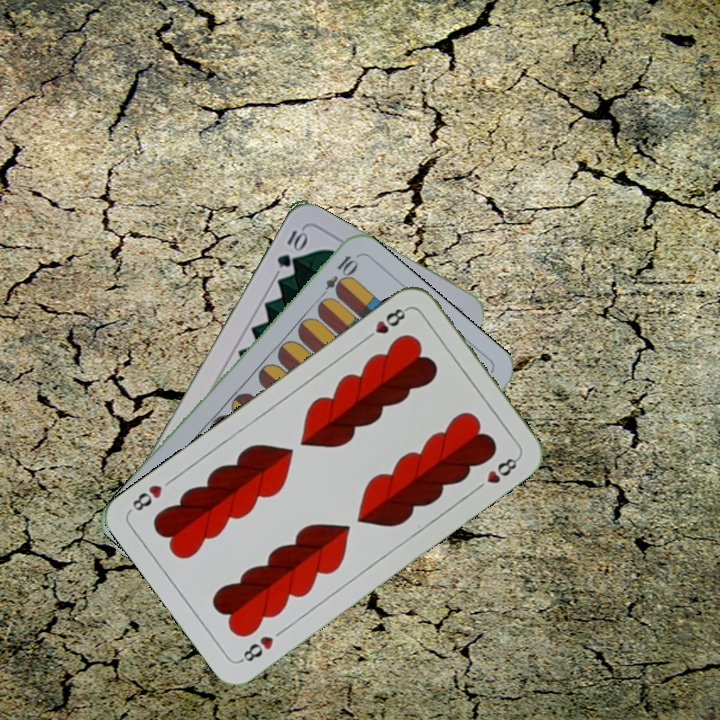E10: (314, 251, 359, 304)
G10: (272, 225, 309, 270)
H8: (360, 303, 411, 344), (235, 632, 276, 665)
